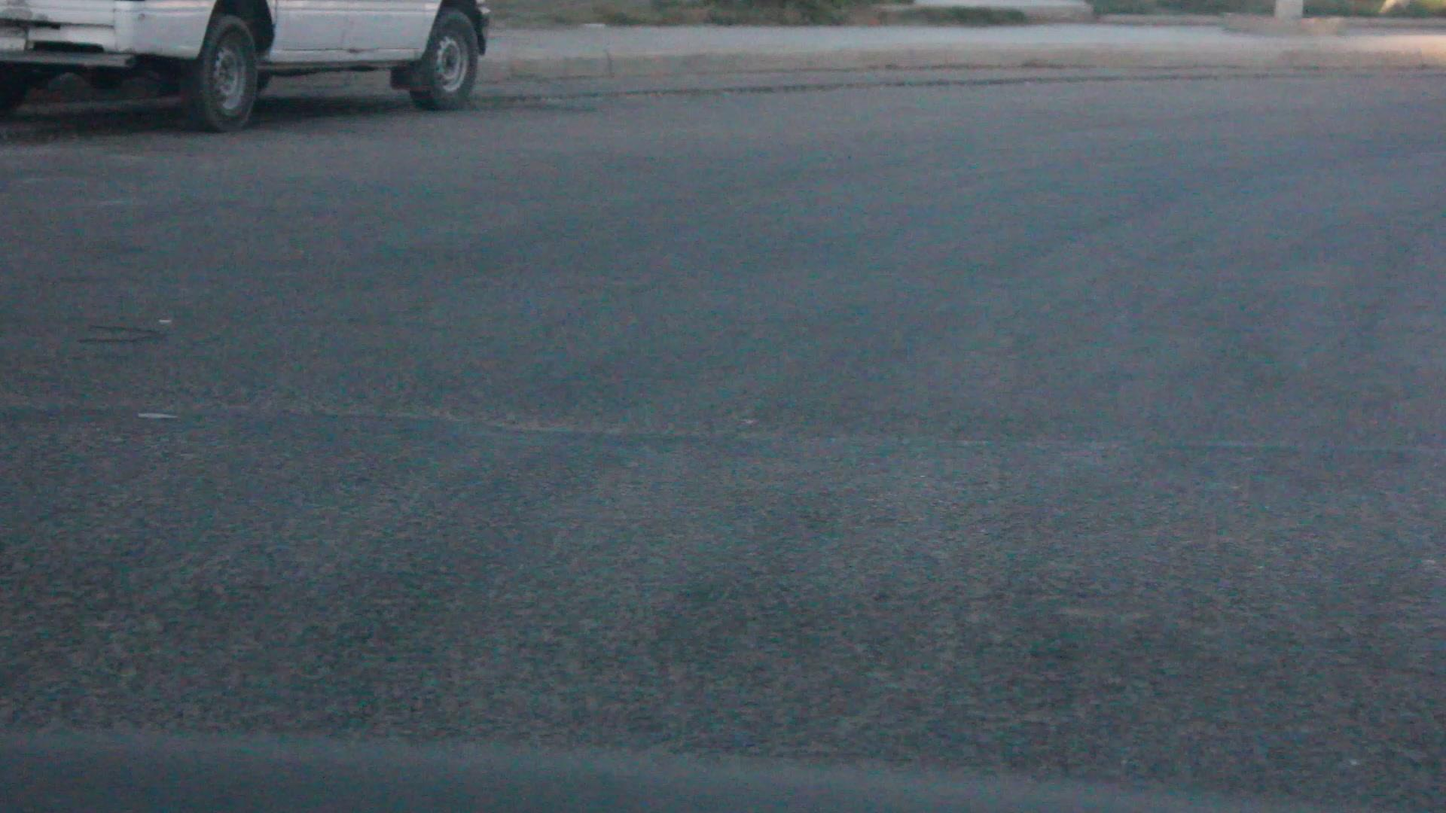Bump: (21, 406, 1446, 736)
